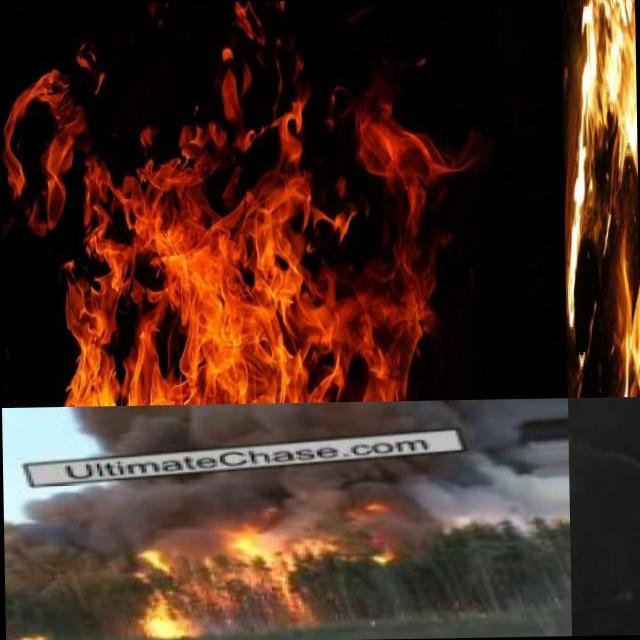fire: (0, 51, 467, 407), (562, 0, 640, 389), (150, 539, 323, 588), (138, 588, 199, 640), (5, 629, 49, 640)
smoke: (12, 482, 570, 546)
